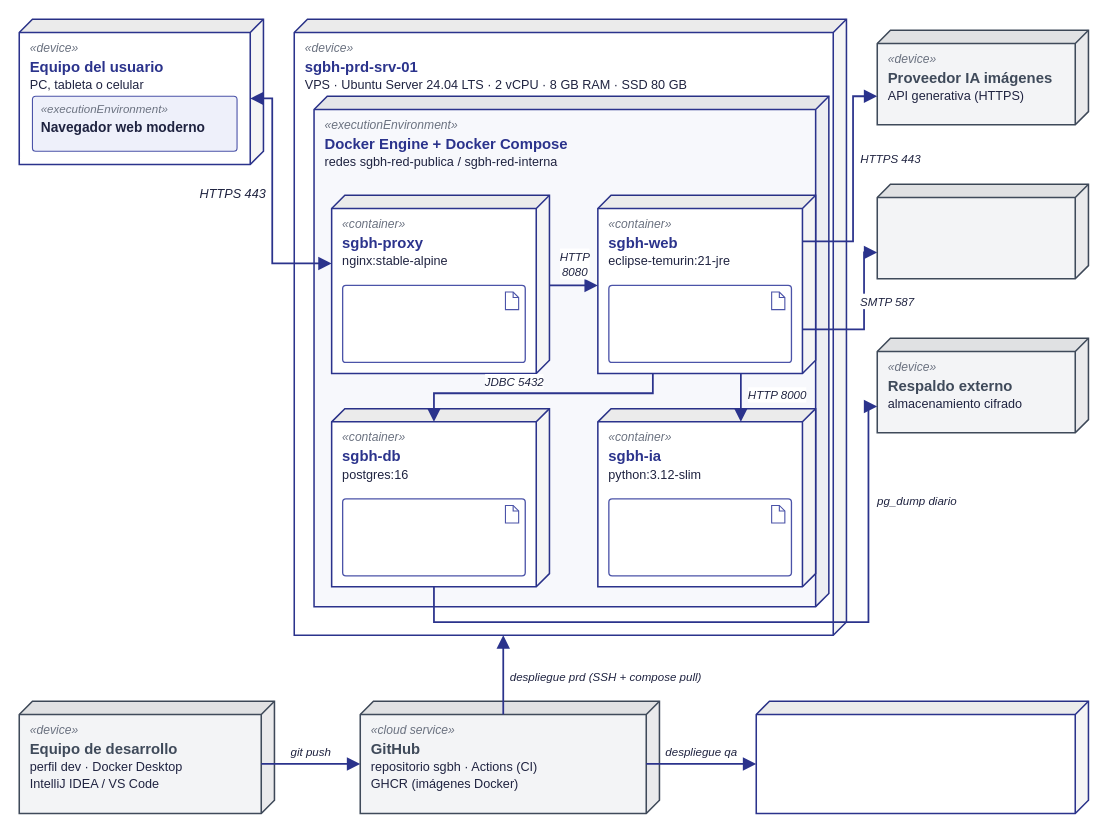
The diagram is 1109 pixels wide and 834 high, and some of its shapes have lost their labels. Each missing label, with the box of its shape:
«artifact» esquema sgbh migraciones Flyway volumen sgbh-datos-db: (341, 498, 525, 576)
«artifact» ia-service FastAPI · :8000 volumen sgbh-modelos: (608, 498, 792, 576)
«artifact» nginx/sgbh.conf TLS Let's Encrypt puertos 80 y 443: (341, 284, 525, 363)
«artifact» sgbh-web.jar Spring Boot 4.1 perfil prd · :8080: (608, 284, 792, 363)
«device» Servidor SMTP correo saliente: (876, 183, 1089, 279)
«device» sgbh-qa-srv-01 misma composición Docker, datos de prueba (perfil qa): (755, 700, 1089, 814)
